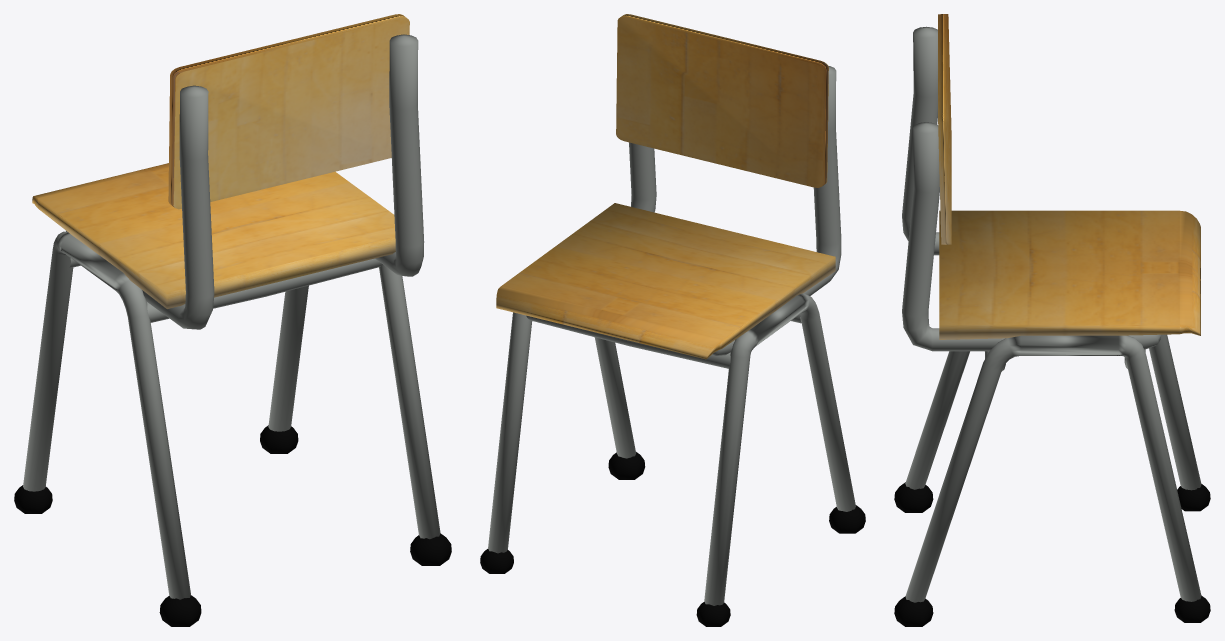
File: Chair.fbx
The picture shows the model from 3 angles, left to right: view 1: azimuth 30°, elevation 25°; view 2: azimuth 150°, elevation 25°; view 3: azimuth 270°, elevation 25°; orthographic projection. The views are drawn at different scales.
Visible parts, largest first — view 1: Backrest, Seat, Chair Legs, BackRestTubes, Chair Legs Connection Back, Tacos sillas back, Tacos sillas front; view 2: Seat, Backrest, Chair Legs, BackRestTubes, Tacos sillas back, Tacos sillas front, Chair Legs Connection Front; view 3: Seat, Chair Legs, BackRestTubes, Backrest, Tacos sillas back, Tacos sillas front.
Boxes of the visible parts, bbox=[...] form: Backrest: bbox=[168, 14, 409, 209]; Seat: bbox=[32, 163, 395, 308]; Chair Legs: bbox=[23, 231, 440, 599]; BackRestTubes: bbox=[66, 34, 424, 329]; Chair Legs Connection Back: bbox=[147, 258, 382, 322]; Tacos sillas back: bbox=[159, 533, 451, 626]; Tacos sillas front: bbox=[14, 425, 298, 513]; Seat: bbox=[496, 203, 835, 359]; Backrest: bbox=[616, 14, 828, 187]; Chair Legs: bbox=[488, 293, 855, 605]; BackRestTubes: bbox=[629, 66, 841, 355]; Tacos sillas back: bbox=[608, 452, 865, 533]; Tacos sillas front: bbox=[480, 549, 730, 626]; Chair Legs Connection Front: bbox=[526, 315, 730, 368]; Seat: bbox=[939, 210, 1200, 339]; Chair Legs: bbox=[905, 334, 1201, 602]; BackRestTubes: bbox=[902, 26, 1161, 351]; Backrest: bbox=[938, 14, 951, 244]; Tacos sillas back: bbox=[894, 482, 933, 626]; Tacos sillas front: bbox=[1174, 484, 1210, 622].
Bounding box in the file's own units: 225 × 409 × 235.
